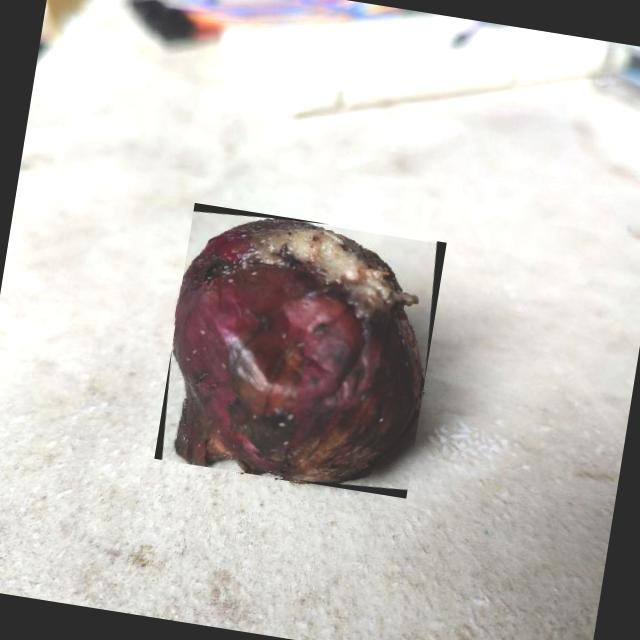rotten: (175, 219, 425, 482)
